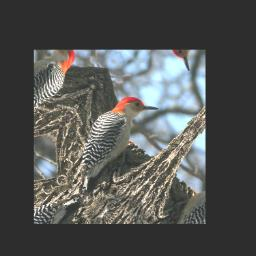Woodpecker: (53, 81, 166, 203)
